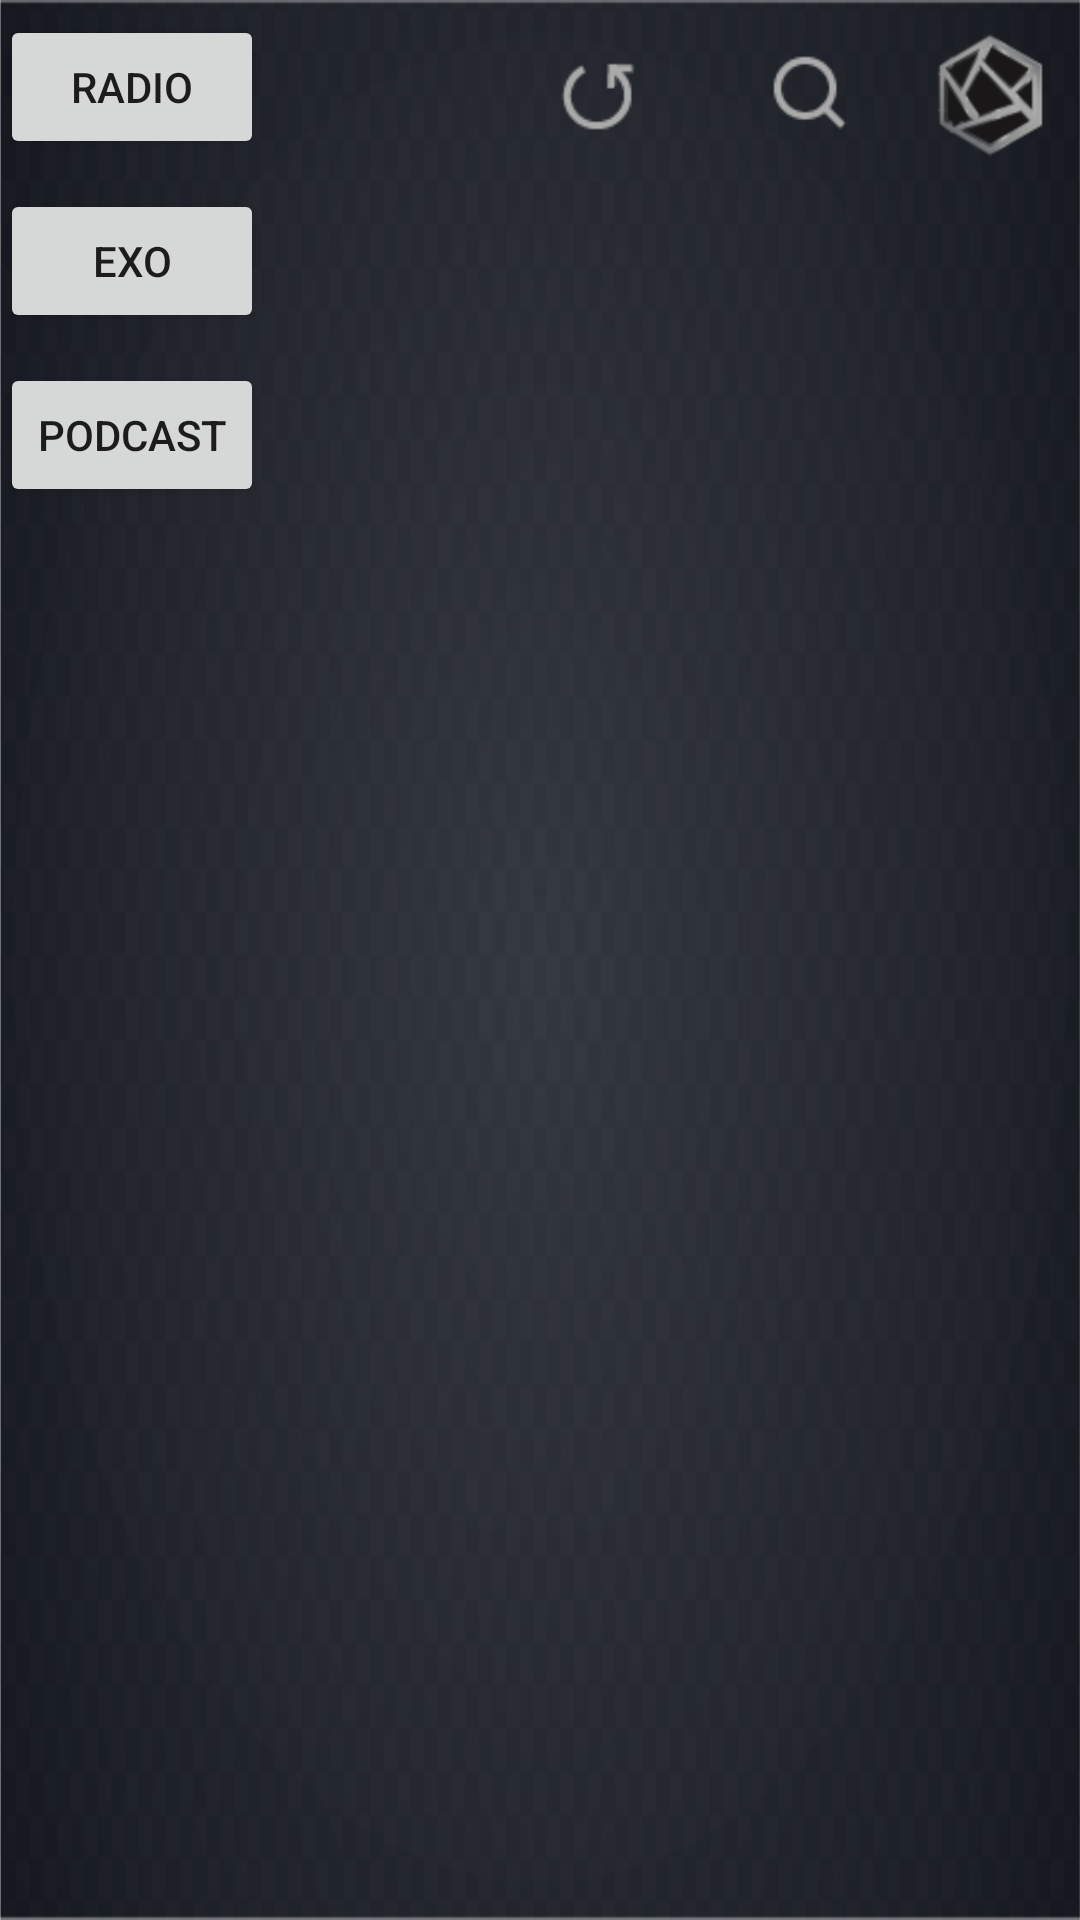

Named icons in this screenshot (1080 × 1920) and their centers, point (x, y):
reload: point (598, 96)
search: point (809, 92)
